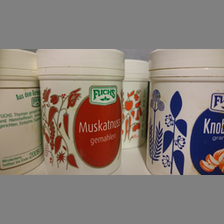spices: (36, 50, 125, 173), (145, 49, 222, 174)
